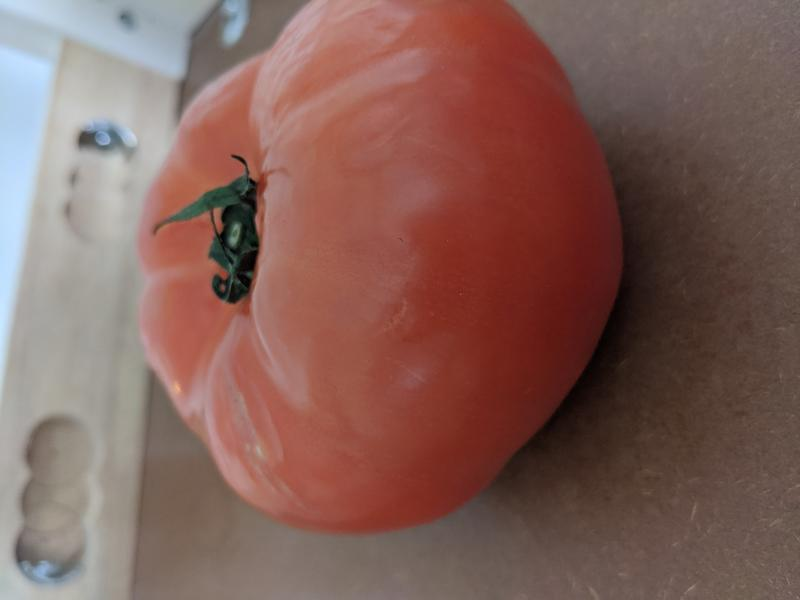tomato: (136, 3, 626, 536)
